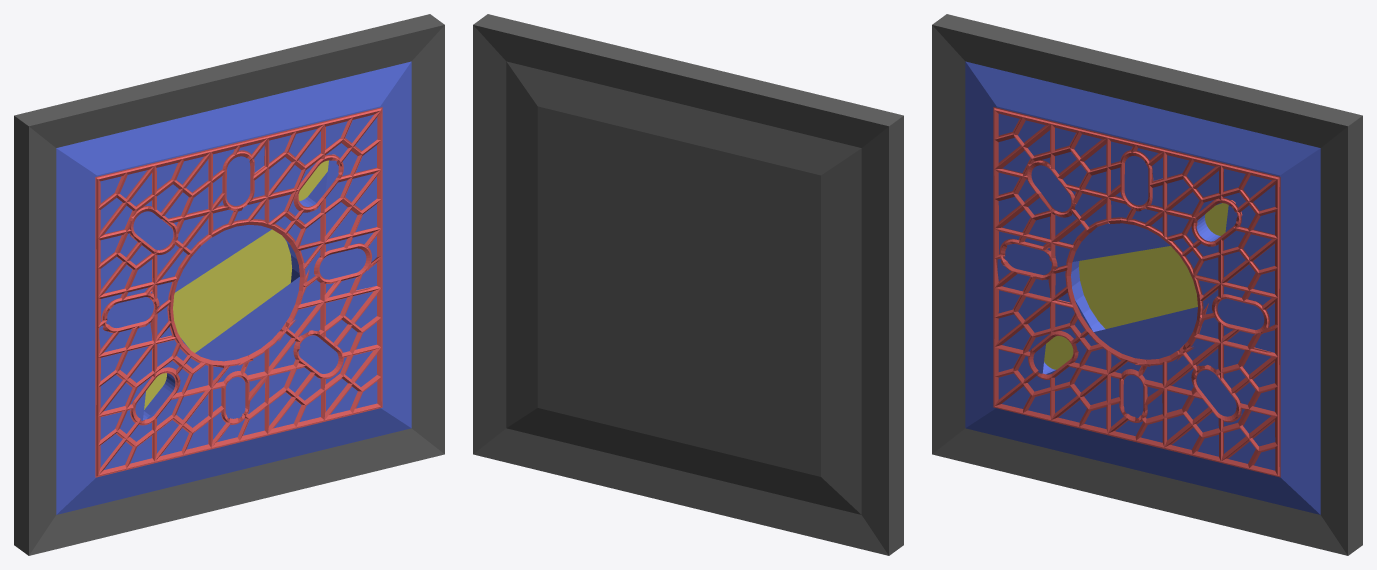
The model's file is solar panel.fbx.
3 renders of one model, left to right at view 1: azimuth 30°, elevation 25°; view 2: azimuth 150°, elevation 25°; view 3: azimuth 330°, elevation 25°, orthographic.
Parts seen in each view (by area): view 1: Cube, Plane; view 2: Cube; view 3: Cube, Plane.
Part boxes in pixels (bbox=[...]): Cube: bbox=[14, 14, 444, 555]; Plane: bbox=[95, 107, 382, 477]; Cube: bbox=[473, 14, 903, 555]; Cube: bbox=[932, 14, 1362, 555]; Plane: bbox=[993, 107, 1280, 477].
Size of the model in its own units: 439 by 433 by 36.42.
